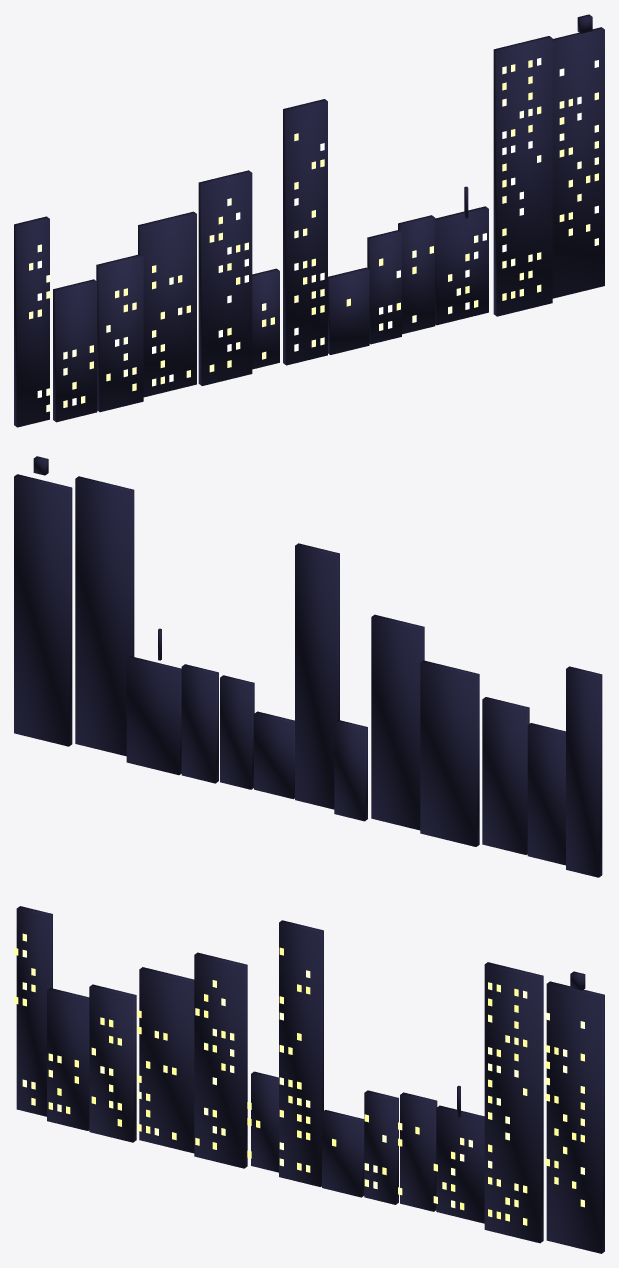
Rendered from skyline_backdrop.glb.
3 views of the same model, one above another, from view 1: azimuth 30°, elevation 25°; view 2: azimuth 150°, elevation 25°; view 3: azimuth 330°, elevation 25° (orthographic).
Visible parts, largest first — view 1: skyline_backdrop, windows_c, windows_b, windows_a; view 2: skyline_backdrop; view 3: skyline_backdrop, windows_c, windows_b, windows_a.
Part boxes in pixels (x1=…): skyline_backdrop: x1=14, y1=14, x2=604, y2=427; windows_c: x1=412, y1=58, x2=598, y2=322; windows_b: x1=209, y1=133, x2=400, y2=372; windows_a: x1=29, y1=244, x2=190, y2=412; skyline_backdrop: x1=14, y1=456, x2=602, y2=877; skyline_backdrop: x1=16, y1=906, x2=604, y2=1253; windows_c: x1=398, y1=982, x2=584, y2=1225; windows_b: x1=195, y1=947, x2=386, y2=1189; windows_a: x1=14, y1=933, x2=176, y2=1140.
Size of the model in its own units: 60.57 by 27.23 by 2.02.
